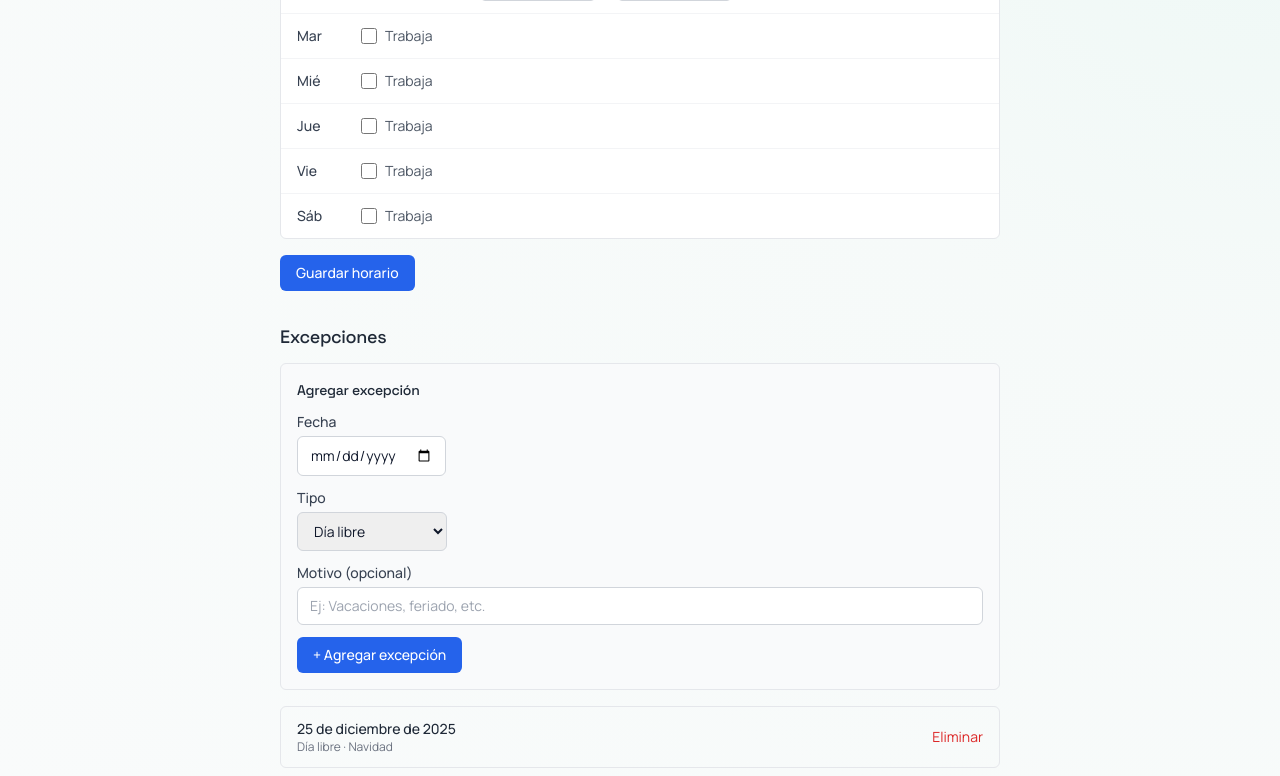
StaffAvailabilityPage › shows success message after removing exception
(page scrolled)
Click the button "Eliminar".
click(958, 737)  # box [932,727,983,747]
(page scrolled)
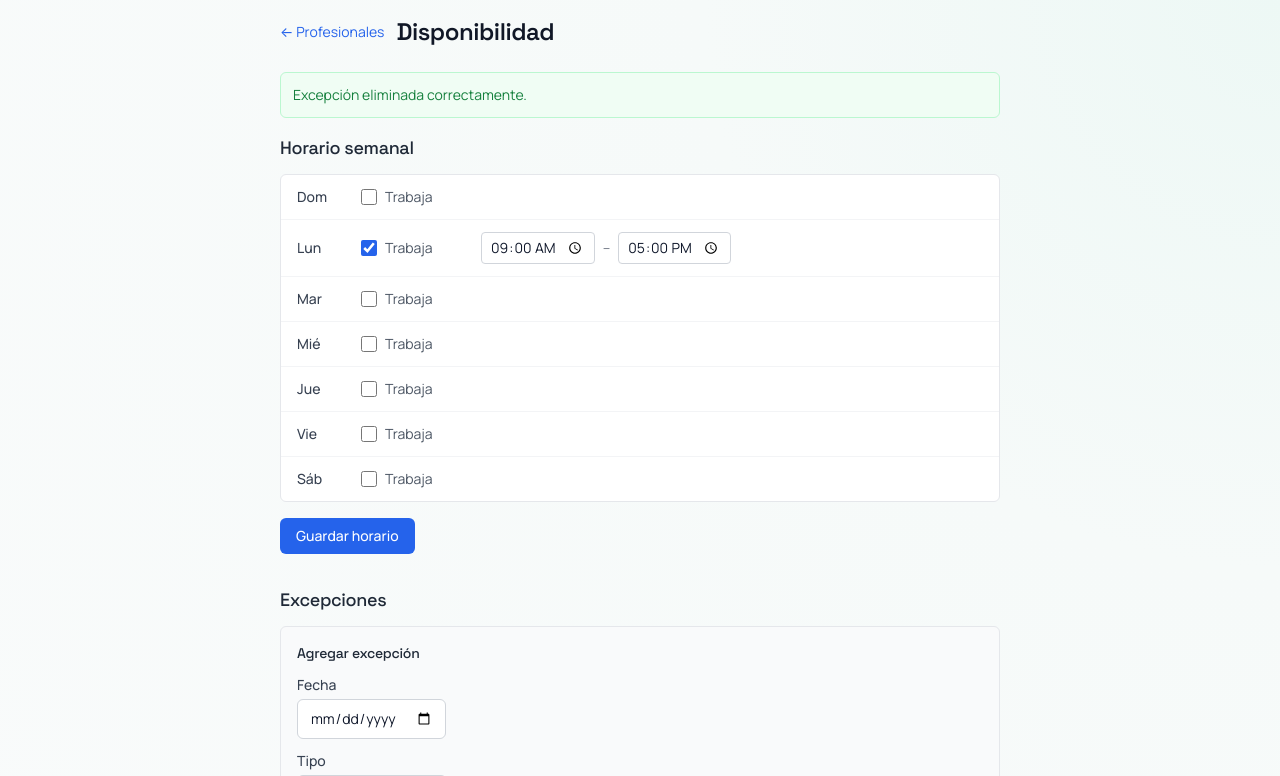
Expected: the text "Excepción eliminada correctamente." is shown, [280,72,1000,118]
